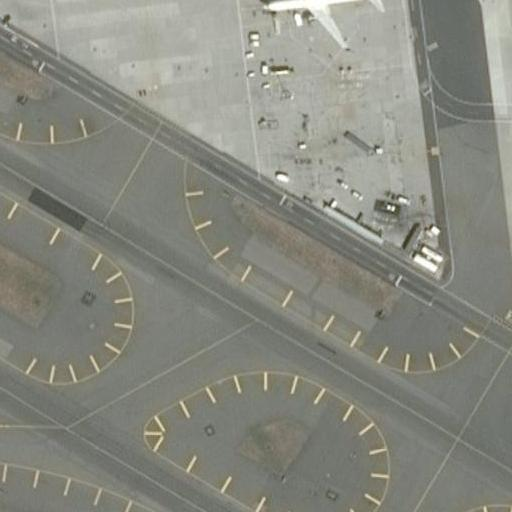Aircraft: (259, 0, 386, 50)
